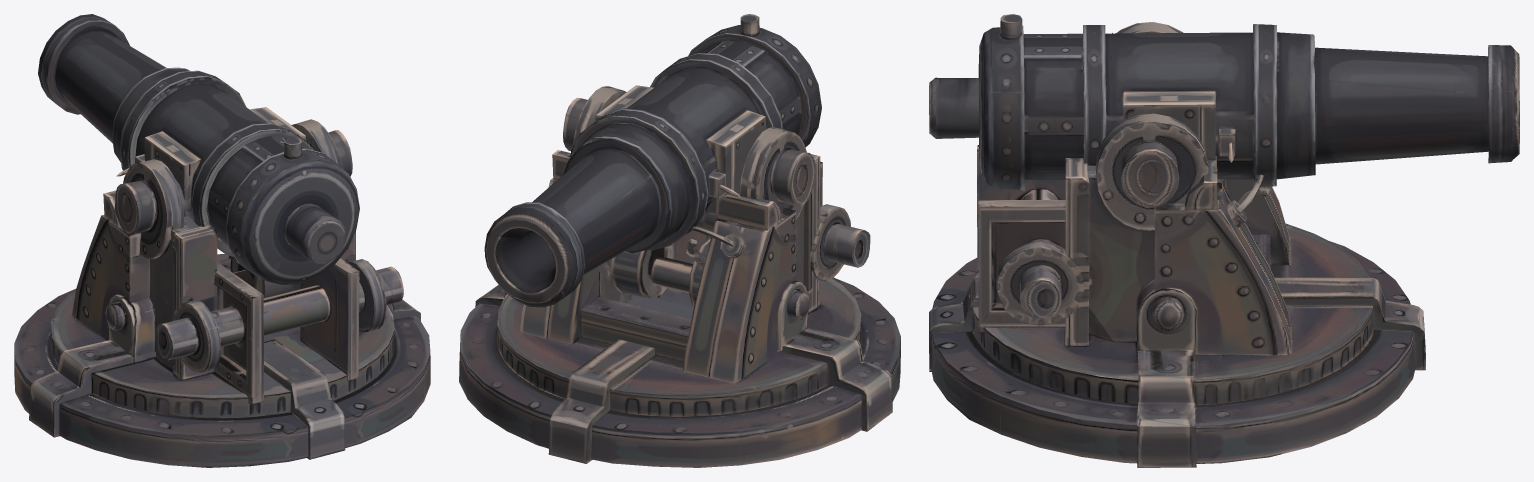
Rendered from cannon33a-b-3000.glb.
3 views of the same model, side by side, from view 1: azimuth 30°, elevation 25°; view 2: azimuth 150°, elevation 25°; view 3: azimuth 270°, elevation 25° (orthographic). The views are drawn at different scales.
Visible parts, largest first — view 1: mount, barrel; view 2: mount, barrel; view 3: mount, barrel.
Boxes of the visible parts, x1,y1,x2,y2 form: mount: [14, 107, 430, 467]; barrel: [38, 14, 359, 284]; mount: [459, 68, 900, 467]; barrel: [484, 14, 821, 307]; mount: [929, 22, 1425, 467]; barrel: [929, 14, 1519, 190].
Bounding box in the file's own units: 2.57 × 1.93 × 3.
Materials: 1 (1 with a texture image).
